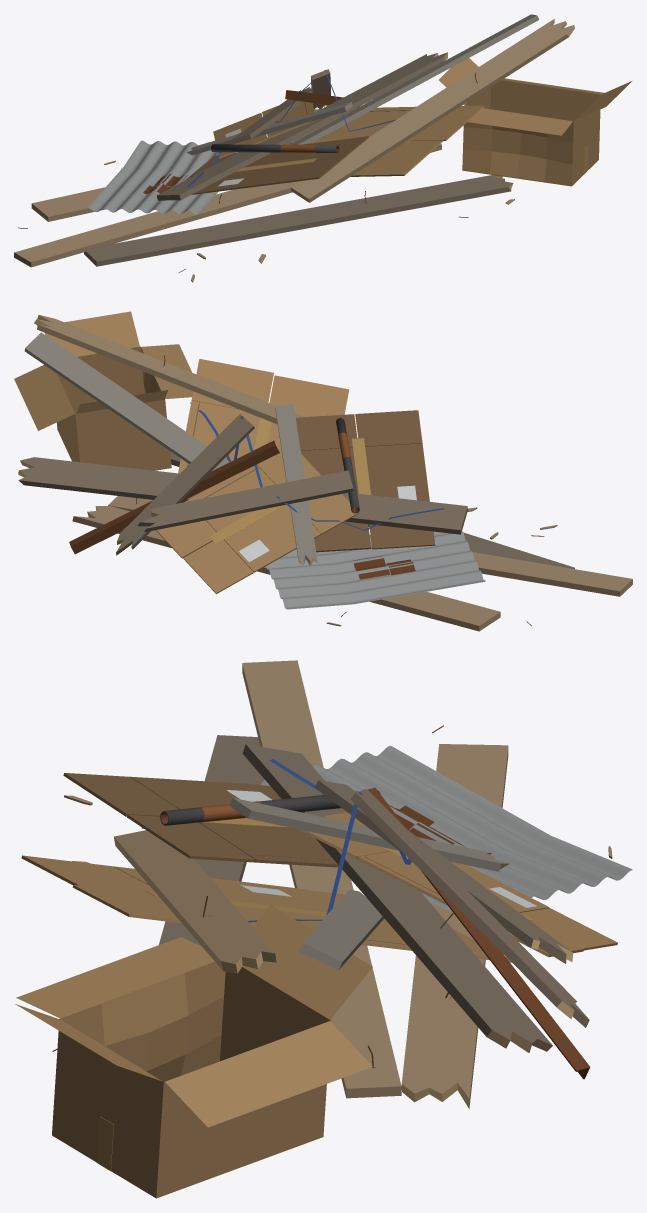
The model's file is debris_b.glb.
3 views of the same model, one above another, from view 1: azimuth 30°, elevation 25°; view 2: azimuth 150°, elevation 25°; view 3: azimuth 270°, elevation 25° (orthographic). The views are drawn at different scales.
Parts seen in each view (by area): view 1: kiste_karton, brett, brett.003, wellblech, brett.001, karton, brett.005, karton.001, brett.004, karton.002, brett.002, brett.006 (+4 smaller); view 2: kiste_karton, karton.001, karton.002, wellblech, brett.005, karton, brett.004, brett.008, brett.003, brett.001, brett.002, brett.007 (+5 smaller); view 3: kiste_karton, wellblech, brett.005, brett.001, karton.001, brett.002, karton, brett.003, brett.007, karton.002, brett.008, brett.006 (+5 smaller).
Boxes of the visible parts, x1,y1,x2,y2 form: kiste_karton: (439,58,631,186); brett: (84,175,513,266); brett.003: (290,19,574,202); wellblech: (87,140,238,214); brett.001: (14,144,441,267); karton: (287,105,484,176); brett.005: (156,52,447,200); karton.001: (184,136,368,194); brett.004: (290,14,539,144); karton.002: (213,101,315,158); brett.002: (31,187,106,221); brett.006: (187,102,352,155); kiste_karton: (14,311,192,470); karton.001: (295,410,435,552); karton.002: (155,447,359,594); wellblech: (266,531,485,609); brett.005: (18,457,467,534); karton: (178,359,349,473); brett.004: (24,332,229,470); brett.008: (137,470,353,532); brett.003: (34,315,357,438); brett.001: (108,496,632,596); brett.002: (72,506,500,631); brett.007: (116,414,254,555); kiste_karton: (15,905,372,1198); wellblech: (260,745,632,911); brett.005: (242,744,552,1052); brett.001: (242,660,401,1098); karton.001: (63,773,338,867); brett.002: (401,744,508,1108); karton: (21,855,511,962); brett.003: (114,830,276,973); brett.007: (350,788,589,1027); karton.002: (298,812,617,957); brett.008: (315,780,573,963); brett.006: (229,798,509,871).
Size of the model in its own units: 2.86 by 0.5822 by 1.4.
